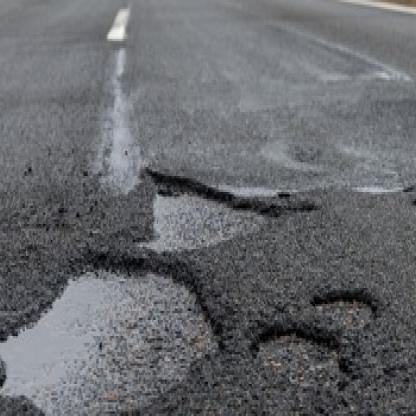pothole: (0, 252, 221, 416), (140, 163, 270, 259), (250, 322, 344, 398), (312, 286, 381, 334), (411, 197, 416, 213)
